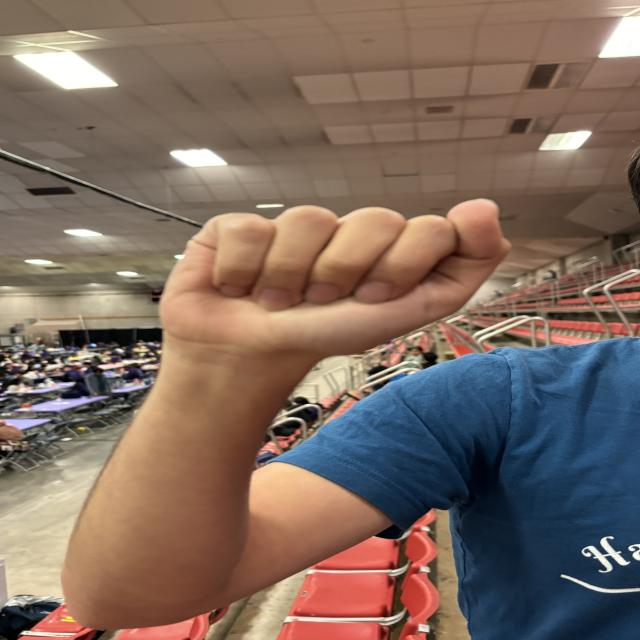A: (172, 198, 526, 346)
